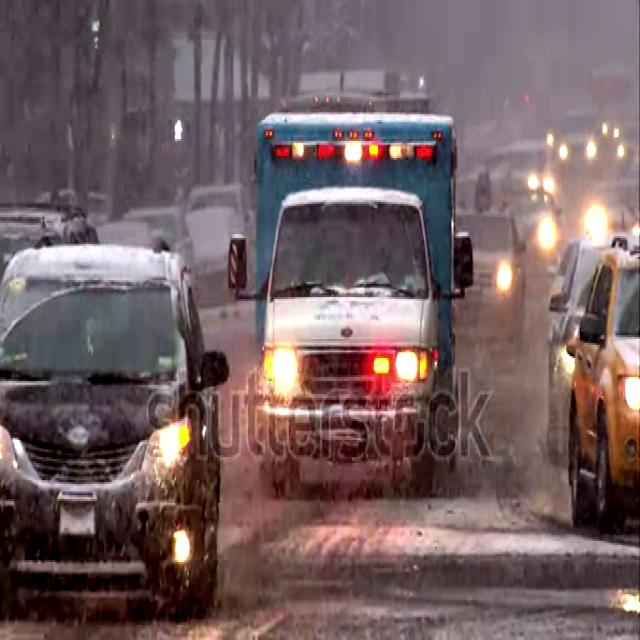ambulance: (226, 105, 474, 503)
